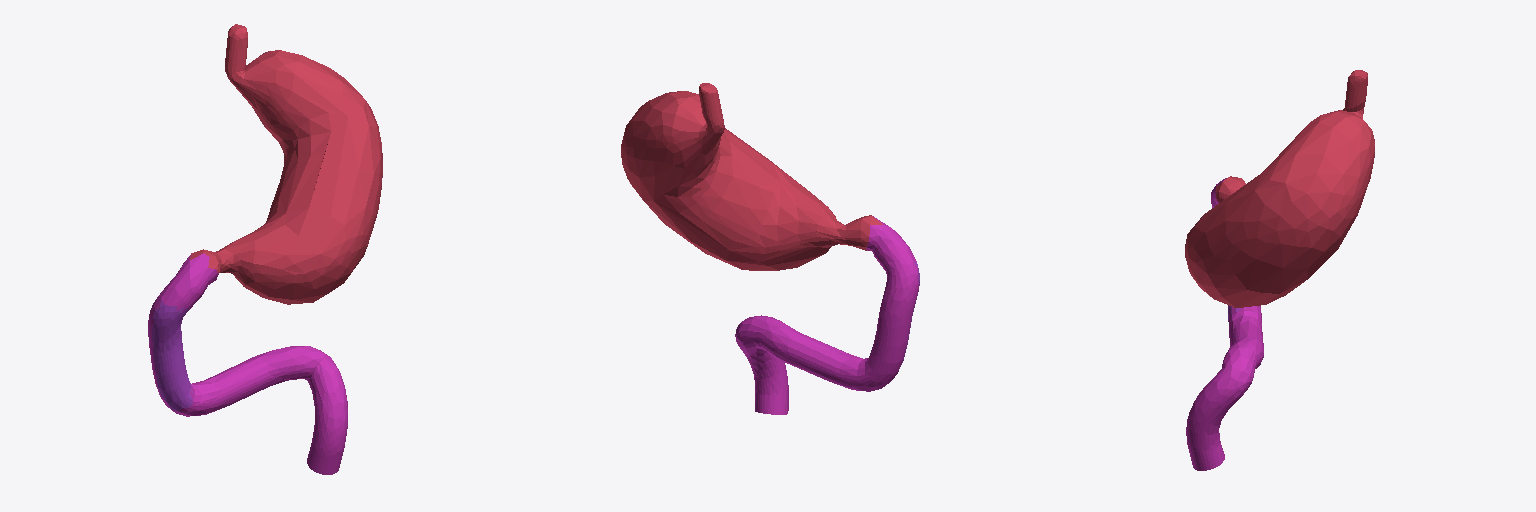
File: Stomach.obj
3 views of the same model, side by side, from view 1: azimuth 30°, elevation 25°; view 2: azimuth 150°, elevation 25°; view 3: azimuth 270°, elevation 25° (orthographic).
Visible parts, largest first — view 1: SEROZA.000_Cylinder.001; view 2: SEROZA.000_Cylinder.001; view 3: SEROZA.000_Cylinder.001.
Part boxes in pixels (bbox=[...]): SEROZA.000_Cylinder.001: bbox=[148, 24, 382, 474]; SEROZA.000_Cylinder.001: bbox=[621, 83, 919, 414]; SEROZA.000_Cylinder.001: bbox=[1185, 70, 1374, 470].
Size of the model in its own units: 17.53 by 25.74 by 11.4.